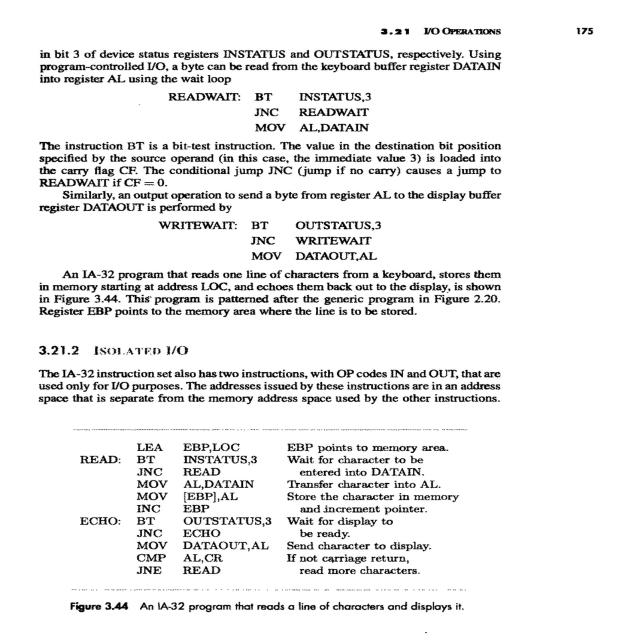diagram: (20, 421, 543, 630)
